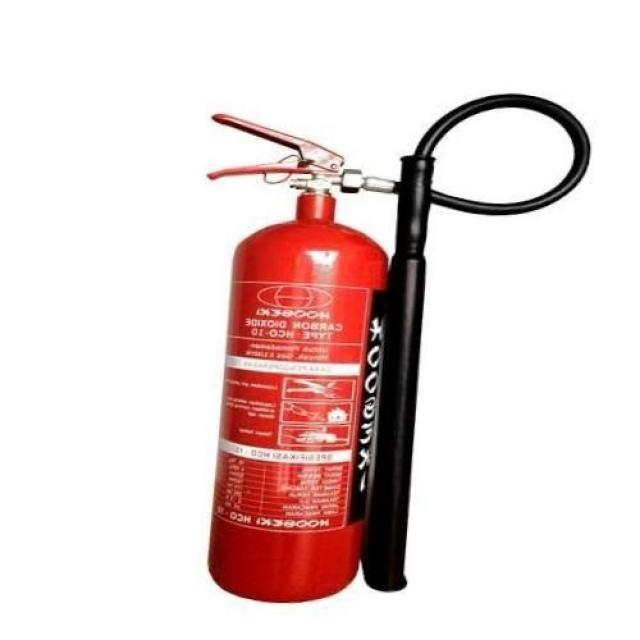fire_extinguisher: (197, 90, 590, 606)
